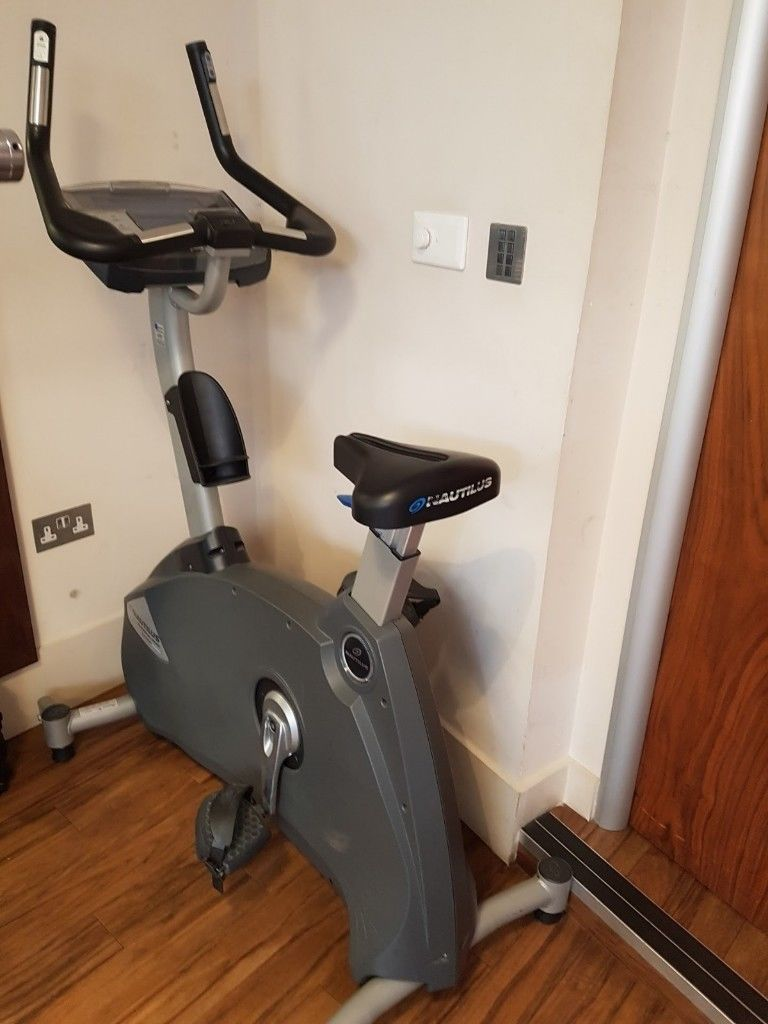gym_bike: (1, 13, 586, 1009)
